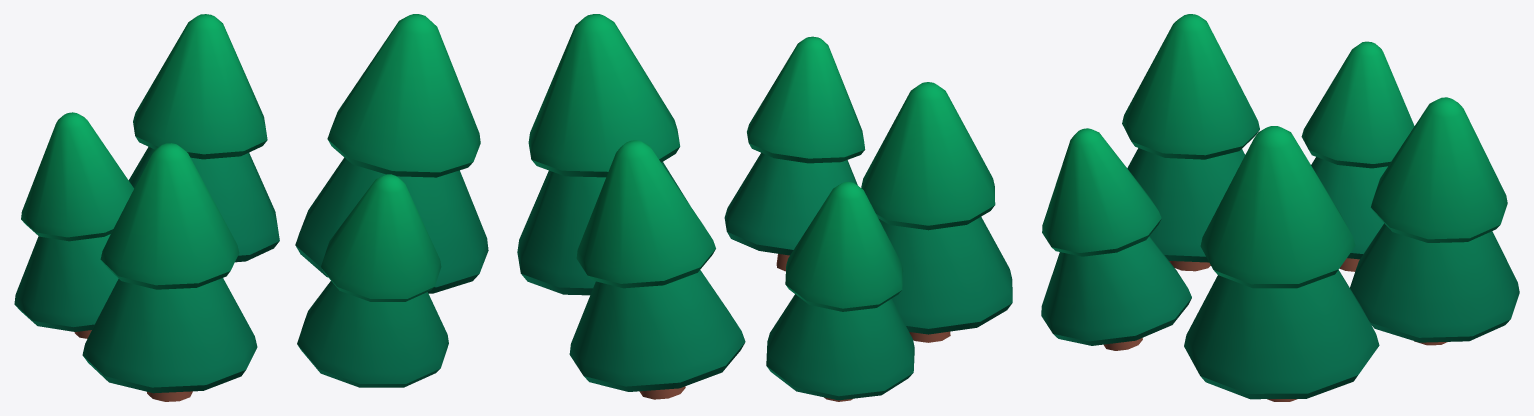
File: hex-trees_B_medium.glb
3 renders of one model, left to right at view 1: azimuth 30°, elevation 25°; view 2: azimuth 150°, elevation 25°; view 3: azimuth 270°, elevation 25°, orthographic.
Parts seen in each view (by area): view 1: trees_B_medium; view 2: trees_B_medium; view 3: trees_B_medium.
Boxes of the visible parts, x1,y1,x2,y2 form: trees_B_medium: [14, 14, 488, 401]; trees_B_medium: [517, 14, 1012, 401]; trees_B_medium: [1041, 14, 1519, 401].
Size of the model in its own units: 1.86 by 1.17 by 1.83.
1 material, 1 textured.
